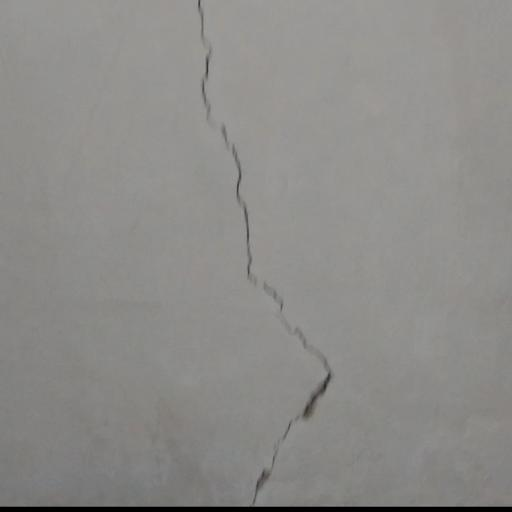minor_crack: (189, 0, 337, 506)
